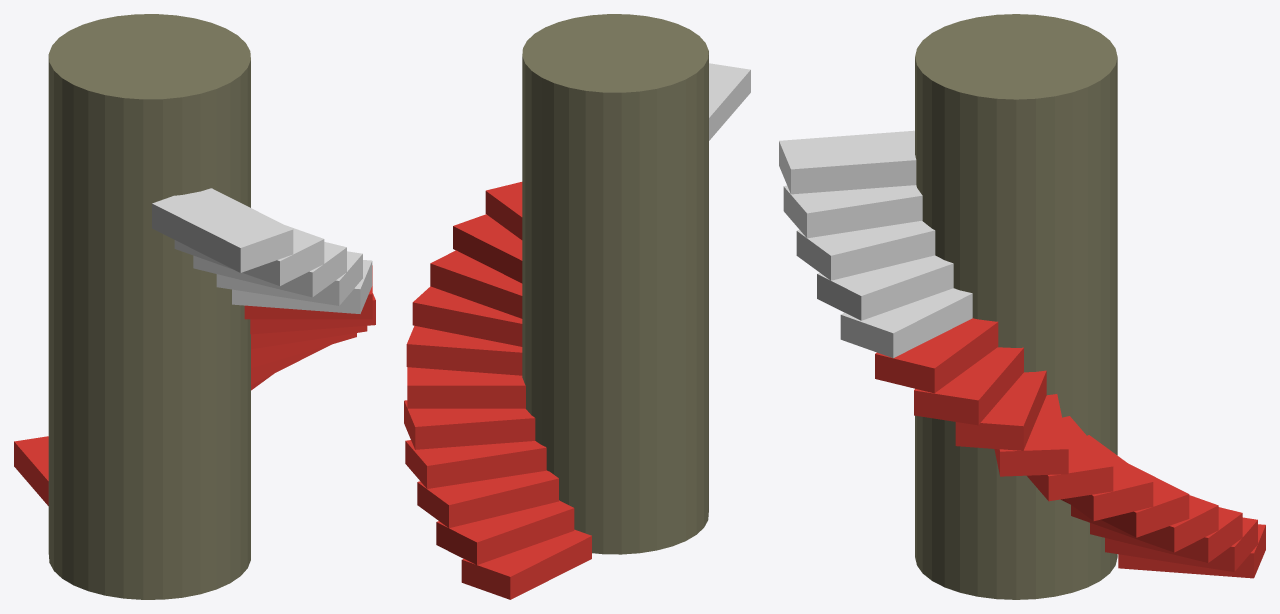
Rendered from staircase.fbx.
The picture shows the model from 3 angles, left to right: view 1: azimuth 30°, elevation 25°; view 2: azimuth 150°, elevation 25°; view 3: azimuth 270°, elevation 25°; orthographic projection. The views are drawn at different scales.
Visible parts, largest first — view 1: Cylinder, Cube.015, Cube.014, Cube.013, Cube.012, Cube.011, Cube, Cube.010, Cube.009, Cube.007, Cube.008, Cube.006; view 2: Cylinder, Cube.002, Cube.001, Cube.003, Cube.004, Cube, Cube.005, Cube.006, Cube.007, Cube.008, Cube.009, Cube.015 (+1 smaller); view 3: Cylinder, Cube.015, Cube.014, Cube.013, Cube.012, Cube.011, Cube.010, Cube.009, Cube.008, Cube.007, Cube.006, Cube.005 (+5 smaller).
Boxes of the visible parts, left/top/right/bottom form: Cylinder: left=48, top=14, right=250, bottom=599; Cube.015: left=152, top=188, right=293, bottom=272; Cube.014: left=174, top=225, right=324, bottom=285; Cube.013: left=193, top=242, right=346, bottom=297; Cube.012: left=216, top=251, right=362, bottom=305; Cube.011: left=232, top=260, right=372, bottom=313; Cube: left=14, top=436, right=48, bottom=505; Cube.010: left=244, top=265, right=372, bottom=319; Cube.009: left=250, top=293, right=375, bottom=334; Cube.007: left=251, top=333, right=356, bottom=368; Cube.008: left=251, top=325, right=367, bottom=349; Cube.006: left=251, top=344, right=331, bottom=384; Cylinder: left=522, top=14, right=708, bottom=554; Cube.002: left=417, top=470, right=558, bottom=528; Cube.001: left=436, top=500, right=574, bottom=565; Cube.003: left=405, top=440, right=546, bottom=488; Cube.004: left=404, top=400, right=535, bottom=449; Cube: left=461, top=529, right=591, bottom=599; Cube.005: left=407, top=367, right=525, bottom=408; Cube.006: left=406, top=325, right=522, bottom=375; Cube.007: left=412, top=286, right=522, bottom=346; Cube.008: left=430, top=250, right=522, bottom=318; Cube.009: left=453, top=214, right=522, bottom=283; Cube.015: left=709, top=63, right=750, bottom=140; Cylinder: left=915, top=14, right=1117, bottom=599; Cube.015: left=779, top=130, right=916, bottom=194; Cube.014: left=783, top=185, right=922, bottom=238; Cube.013: left=796, top=220, right=935, bottom=280; Cube.012: left=817, top=255, right=953, bottom=320; Cube.011: left=840, top=288, right=972, bottom=358; Cube.010: left=875, top=318, right=998, bottom=393; Cube.009: left=914, top=347, right=1023, bottom=425; Cube.008: left=955, top=370, right=1046, bottom=450; Cube.007: left=994, top=394, right=1068, bottom=476; Cube.006: left=1027, top=416, right=1113, bottom=501; Cube.005: left=1063, top=435, right=1153, bottom=521.
Size of what is drawn, in the model's own units: 961 by 1604 by 1414.
